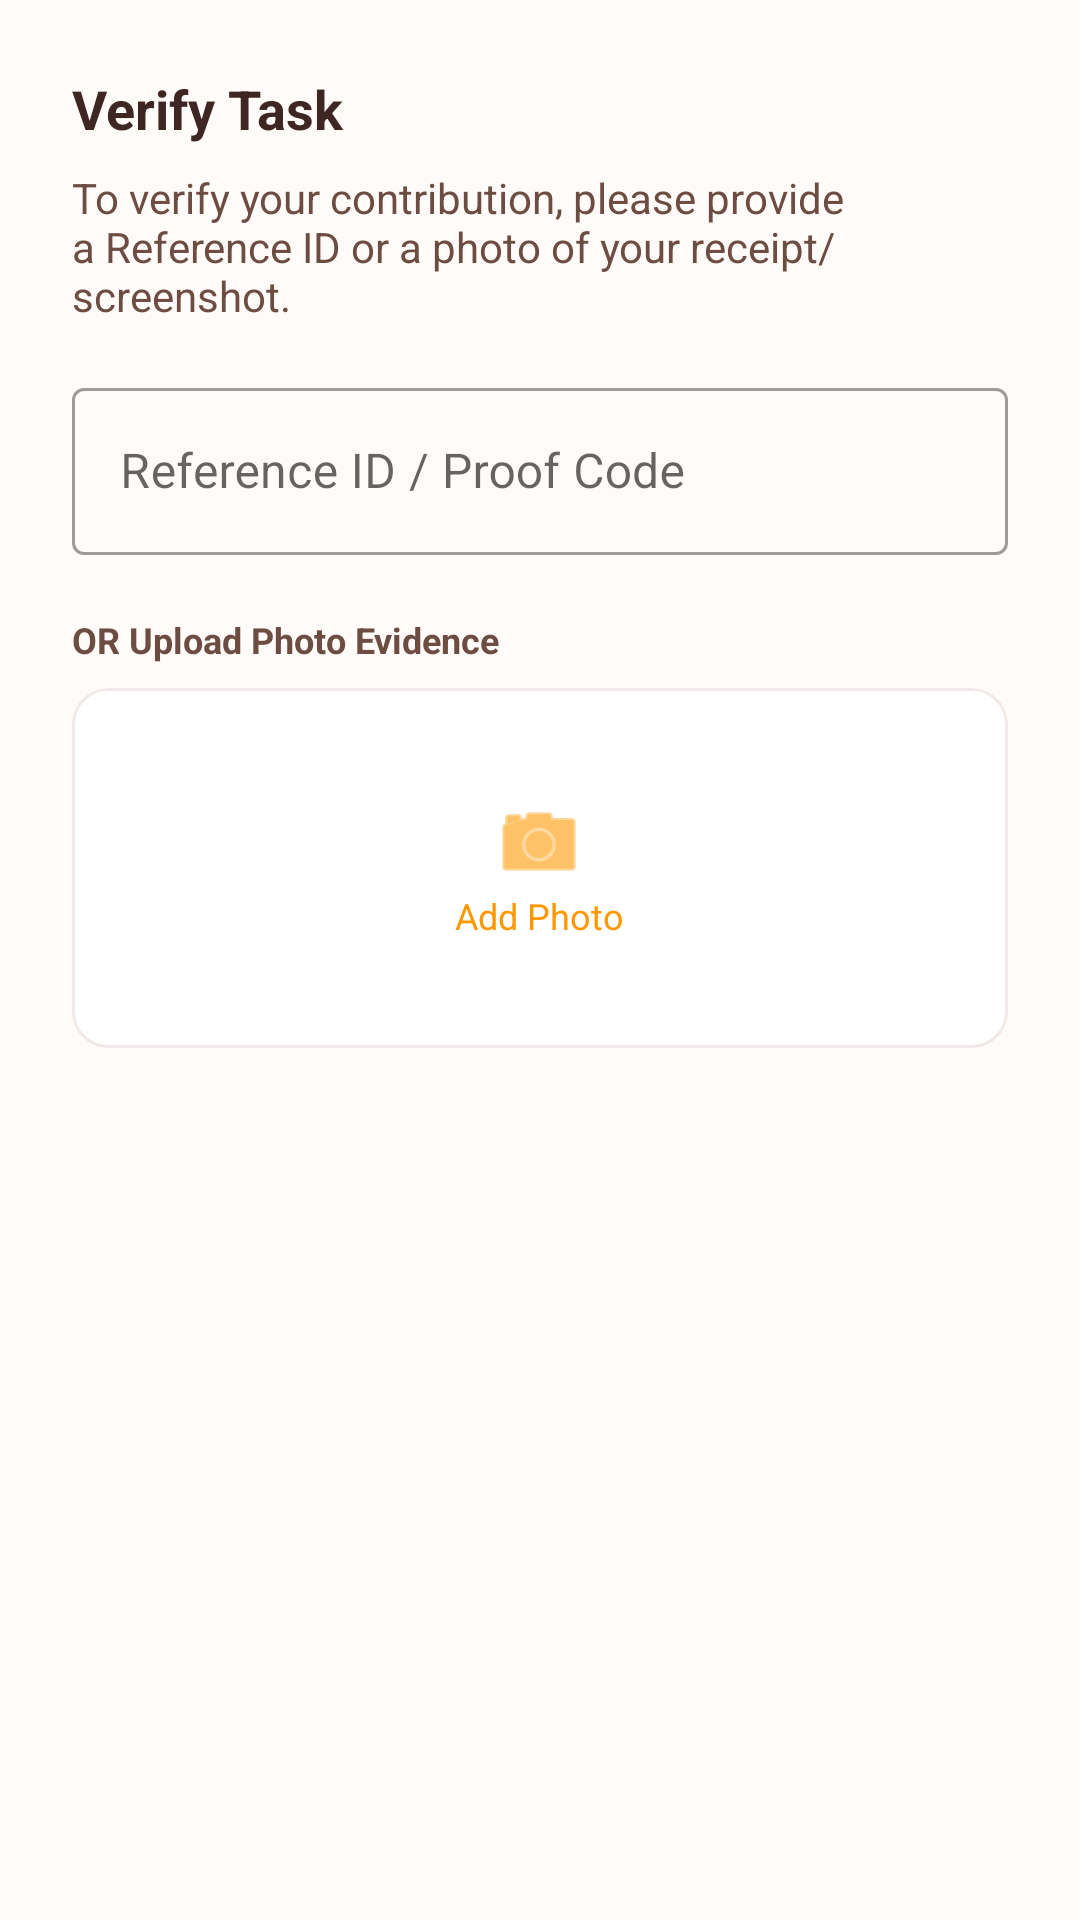

Icon bounding boxes for this 1080 × 1920 phone screenshot, format [x1,y1,x2,y2]:
camera: [502,812,576,871]
